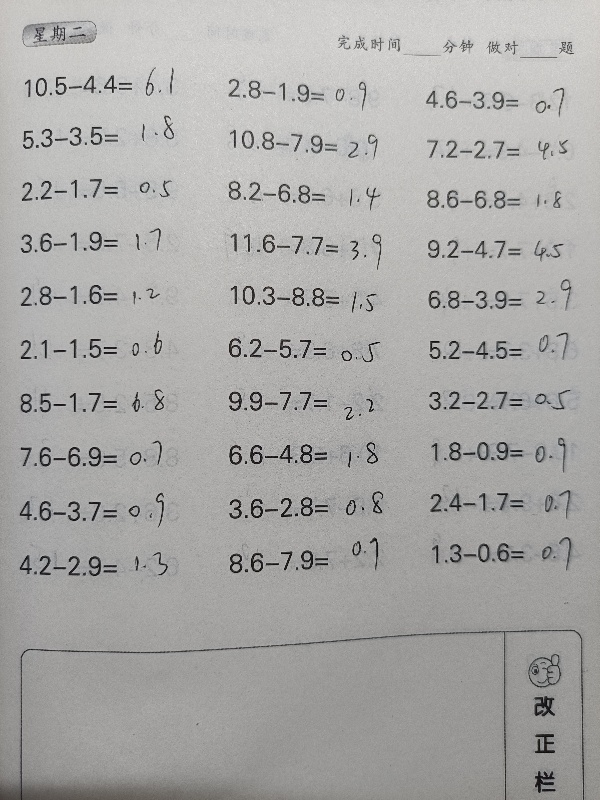equation: (11, 485, 191, 535), (219, 72, 399, 116), (16, 65, 196, 107), (422, 430, 580, 477), (221, 124, 401, 165), (11, 434, 191, 474), (221, 278, 401, 316), (11, 548, 191, 584), (220, 543, 400, 579), (220, 489, 400, 525), (219, 436, 399, 472), (11, 384, 191, 420), (420, 382, 600, 418), (219, 329, 399, 365), (12, 276, 192, 312), (12, 223, 192, 259), (423, 535, 595, 572), (420, 484, 600, 519), (220, 384, 400, 419), (11, 331, 191, 366), (219, 175, 399, 210), (12, 171, 192, 206), (13, 119, 193, 154), (420, 283, 600, 317), (419, 232, 599, 266), (221, 227, 401, 261), (419, 183, 599, 217), (418, 133, 598, 167), (417, 83, 597, 117), (421, 333, 600, 367)
